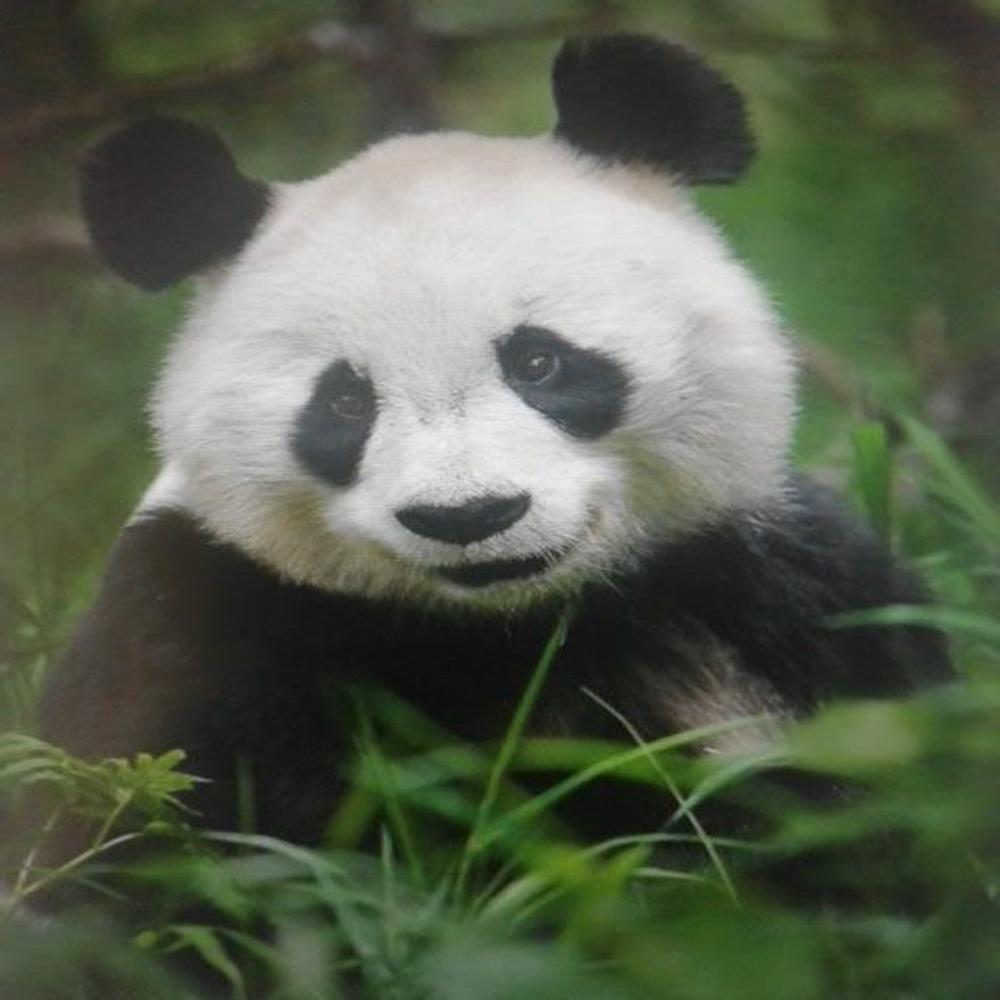panda: (62, 36, 944, 855)
